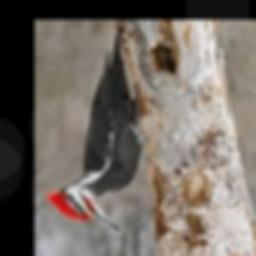Woodpecker: (45, 31, 143, 232)
